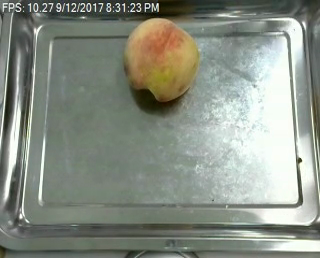Peach: (120, 16, 198, 103)
